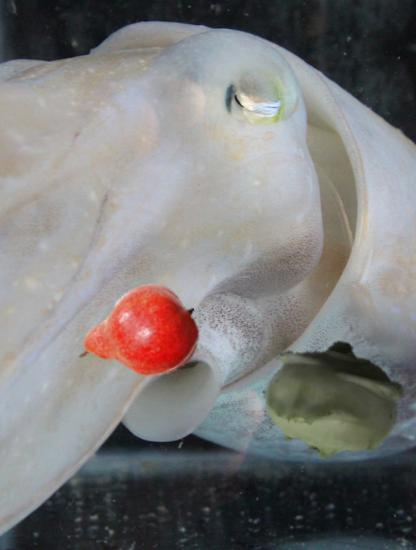Kohlrabi: (261, 329, 404, 472)
Pear: (74, 273, 201, 400)
